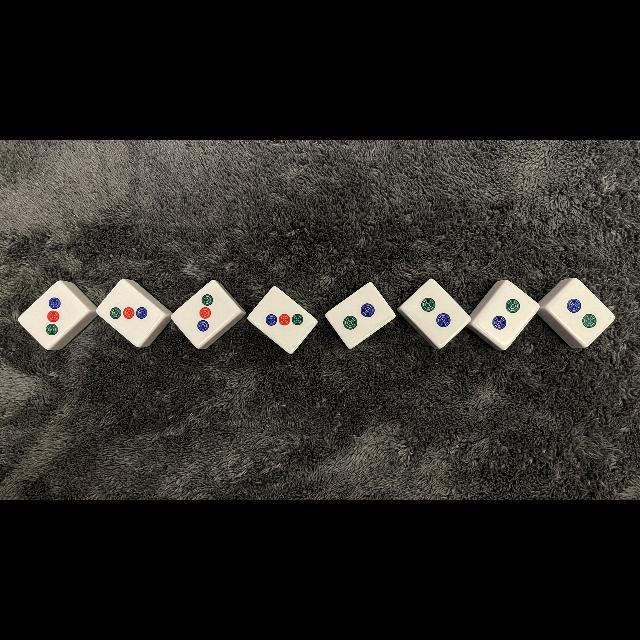d2: (554, 288, 608, 336), (411, 289, 462, 337), (336, 294, 386, 340), (482, 293, 530, 335)
d3: (103, 290, 157, 338), (182, 288, 230, 340), (258, 296, 310, 344), (32, 290, 78, 342)
